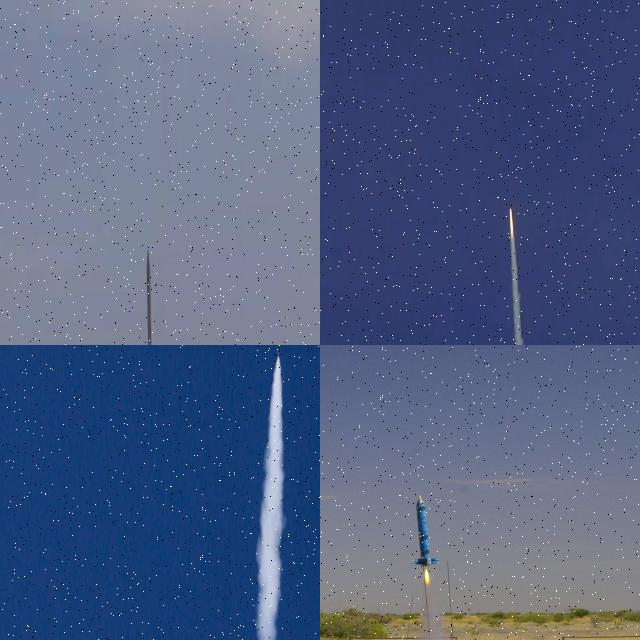Rocket: (412, 494, 440, 566), (143, 248, 155, 345), (273, 345, 281, 359), (509, 200, 511, 210)
